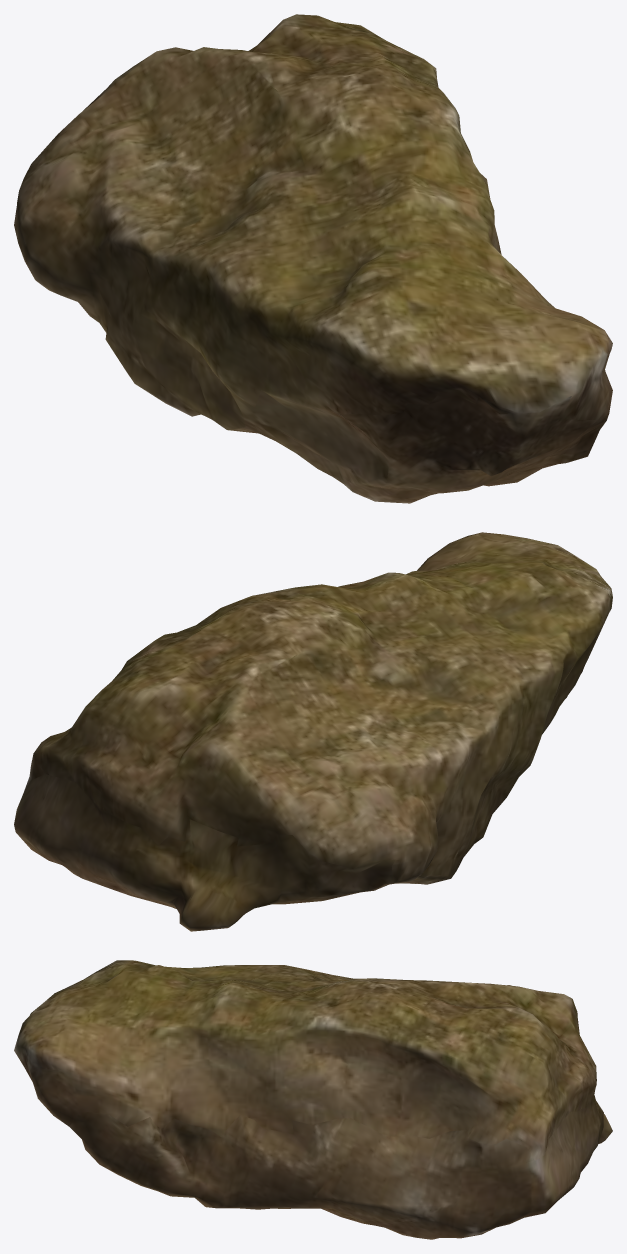
The model's file is mossrock_4.gltf.
3 views of the same model, one above another, from view 1: azimuth 30°, elevation 25°; view 2: azimuth 150°, elevation 25°; view 3: azimuth 270°, elevation 25° (orthographic). The views are drawn at different scales.
Parts seen in each view (by area): view 1: mossrock_4; view 2: mossrock_4; view 3: mossrock_4.
Part boxes in pixels (x1,y1,x2,y2): mossrock_4: [14, 14, 612, 503]; mossrock_4: [14, 532, 612, 931]; mossrock_4: [14, 960, 612, 1239].
Bounding box in the file's own units: 1.82 × 1.21 × 3.01.
Materials: 1 (1 with a texture image).
